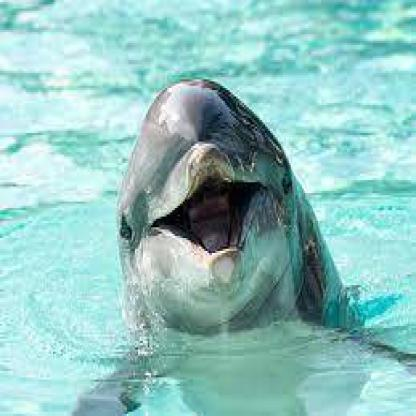dolphin: (114, 75, 357, 330)
